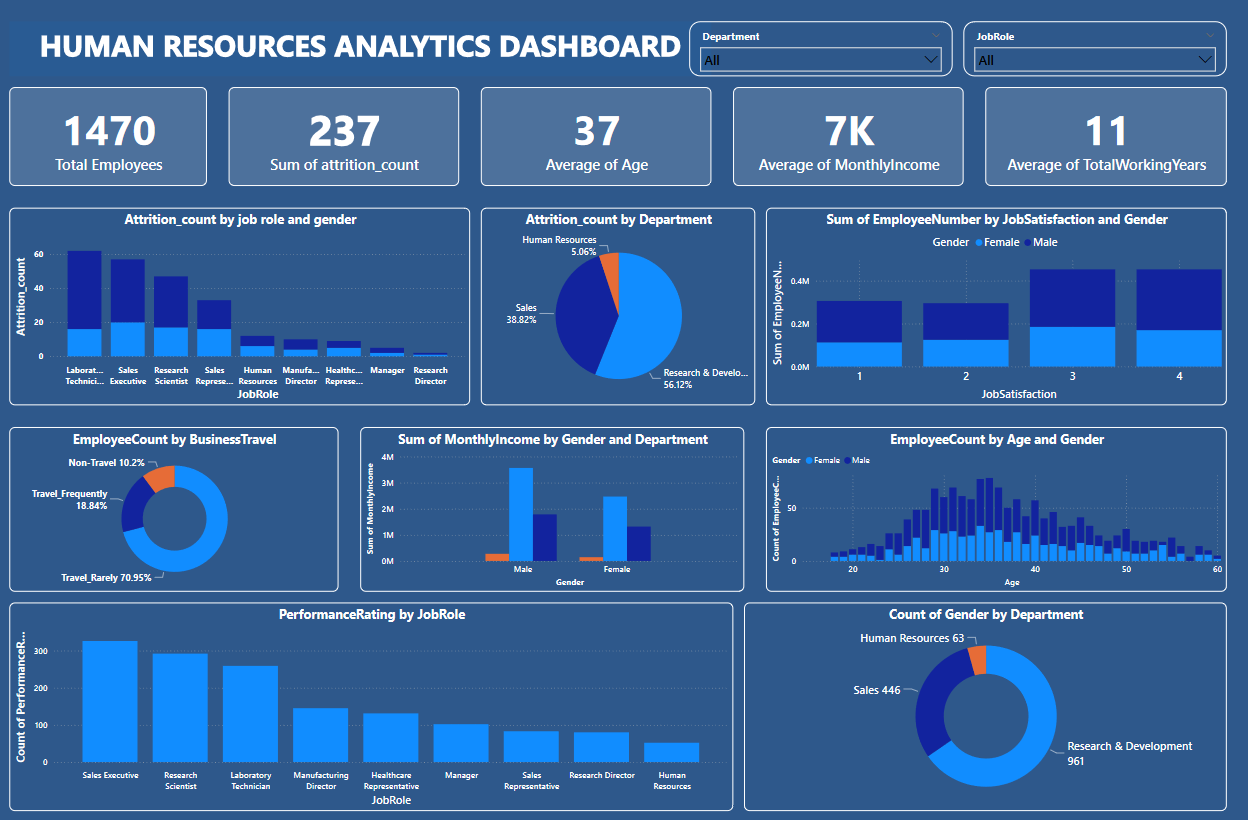

The page's visual inventory and layout, read from the dashboard file:
{"tool":"powerbi","page":{"name":"Page 1","canvas":[1825,1201],"ordinal":0},"visuals":[{"type":"columnChart","title":"Attrition_count by job role and gender","fields":{"Category":["HR-Employee-Attrition.JobRole"],"Y":["Sum(HR-Employee-Attrition.attrition_count)"],"Series":["HR-Employee-Attrition.Gender"]},"box":[16,304,672,288],"z":0},{"type":"card","fields":{"Values":["CountNonNull(HR-Employee-Attrition.EmployeeCount)"]},"box":[16,128,288,144],"z":1000},{"type":"card","fields":{"Values":["Sum(HR-Employee-Attrition.attrition_count)"]},"box":[336,128,336,144],"z":2000},{"type":"pieChart","title":" Attrition_count by Department","fields":{"Category":["HR-Employee-Attrition.Department"],"Y":["Sum(HR-Employee-Attrition.attrition_count)"]},"box":[704,304,400,288],"z":3000},{"type":"columnChart","title":"EmployeeCount by Age and Gender","fields":{"Category":["HR-Employee-Attrition.Age"],"Y":["CountNonNull(HR-Employee-Attrition.EmployeeCount)"],"Series":["HR-Employee-Attrition.Gender"]},"box":[1120,624,672,240],"z":4000},{"type":"donutChart","title":"EmployeeCount by BusinessTravel","fields":{"Y":["CountNonNull(HR-Employee-Attrition.EmployeeCount)"],"Category":["HR-Employee-Attrition.BusinessTravel"]},"box":[16,624,480,240],"z":5000},{"type":"clusteredColumnChart","fields":{"Y":["Sum(HR-Employee-Attrition.MonthlyIncome)"],"Category":["HR-Employee-Attrition.Gender"],"Series":["HR-Employee-Attrition.Department"]},"box":[528,624,560,240],"z":6000},{"type":"card","fields":{"Values":["Avg(HR-Employee-Attrition.Age)"]},"box":[704,128,336,144],"z":7000},{"type":"card","fields":{"Values":["Avg(HR-Employee-Attrition.MonthlyIncome)"]},"box":[1072,128,336,144],"z":8000},{"type":"card","fields":{"Values":["Avg(HR-Employee-Attrition.TotalWorkingYears)"]},"box":[1440,128,352,144],"z":9000},{"type":"textbox","box":[16,32,1024,80],"z":10000},{"type":"clusteredColumnChart","title":" PerformanceRating by JobRole","fields":{"Y":["CountNonNull(HR-Employee-Attrition.PerformanceRating)"],"Category":["HR-Employee-Attrition.JobRole"]},"box":[16,880,1056,304],"z":11000},{"type":"columnChart","fields":{"Y":["Sum(HR-Employee-Attrition.EmployeeNumber)"],"Category":["HR-Employee-Attrition.JobSatisfaction"],"Series":["HR-Employee-Attrition.Gender"]},"box":[1120,304,672,288],"z":12000},{"type":"donutChart","fields":{"Category":["HR-Employee-Attrition.Department"],"Y":["CountNonNull(HR-Employee-Attrition.Gender)"]},"box":[1088,880,704,304],"z":13000},{"type":"slicer","fields":{"Values":["HR-Employee-Attrition.JobRole"]},"box":[1408,32,384,80],"z":14000},{"type":"slicer","fields":{"Values":["HR-Employee-Attrition.Department"]},"box":[1008,32,384,80],"z":15000}]}

Visuals, with their boxes in screenshot pixels (x1, y1, x2, y2), scaled from the page's 1825x1201 canvas onto the 1248x820 screenshot:
"Attrition_count by job role and gender" columnChart: (x1=11, y1=208, x2=470, y2=404)
card - CountNonNull(HR-Employee-Attrition.EmployeeCount): (x1=11, y1=87, x2=208, y2=186)
card - Sum(HR-Employee-Attrition.attrition_count): (x1=230, y1=87, x2=460, y2=186)
" Attrition_count by Department" pieChart: (x1=481, y1=208, x2=755, y2=404)
"EmployeeCount by Age and Gender" columnChart: (x1=766, y1=426, x2=1225, y2=590)
"EmployeeCount by BusinessTravel" donutChart: (x1=11, y1=426, x2=339, y2=590)
clusteredColumnChart - Sum(HR-Employee-Attrition.MonthlyIncome) x HR-Employee-Attrition.Gender: (x1=361, y1=426, x2=744, y2=590)
card - Avg(HR-Employee-Attrition.Age): (x1=481, y1=87, x2=711, y2=186)
card - Avg(HR-Employee-Attrition.MonthlyIncome): (x1=733, y1=87, x2=963, y2=186)
card - Avg(HR-Employee-Attrition.TotalWorkingYears): (x1=985, y1=87, x2=1225, y2=186)
textbox: (x1=11, y1=22, x2=711, y2=76)
" PerformanceRating by JobRole" clusteredColumnChart: (x1=11, y1=601, x2=733, y2=808)
columnChart - Sum(HR-Employee-Attrition.EmployeeNumber) x HR-Employee-Attrition.JobSatisfaction: (x1=766, y1=208, x2=1225, y2=404)
donutChart - HR-Employee-Attrition.Department x CountNonNull(HR-Employee-Attrition.Gender): (x1=744, y1=601, x2=1225, y2=808)
slicer - HR-Employee-Attrition.JobRole: (x1=963, y1=22, x2=1225, y2=76)
slicer - HR-Employee-Attrition.Department: (x1=689, y1=22, x2=952, y2=76)
